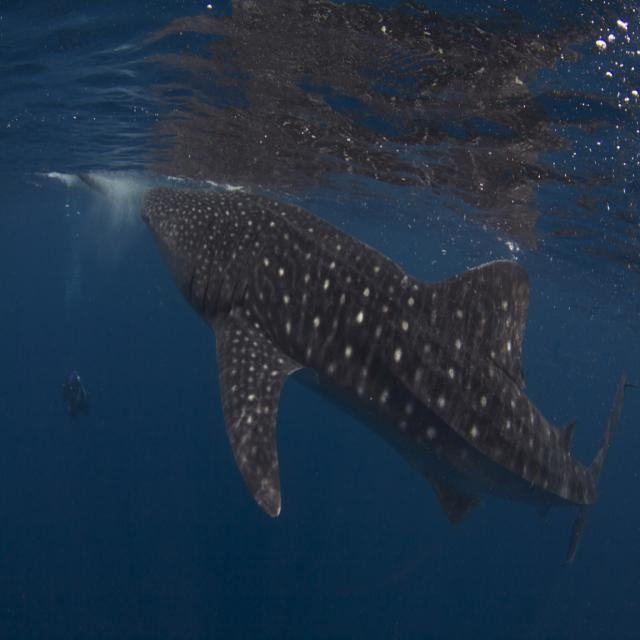Shark: (136, 180, 630, 564)
